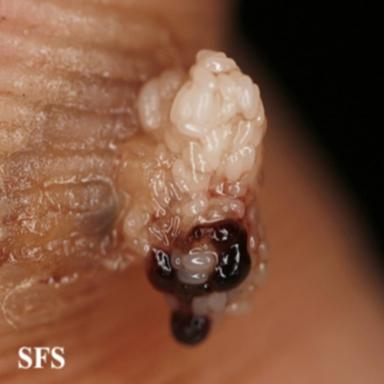Tungiasis: (118, 50, 269, 353)
